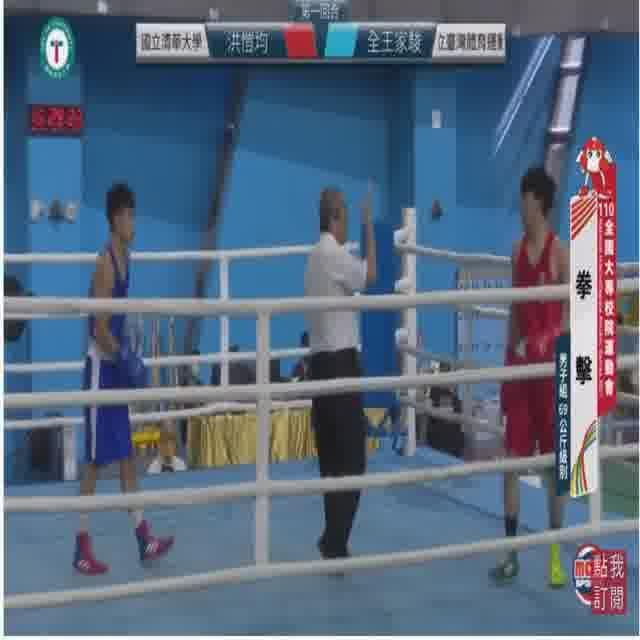blue-player: (72, 180, 178, 576)
red-player: (482, 164, 570, 590)
referee: (299, 175, 381, 574)
